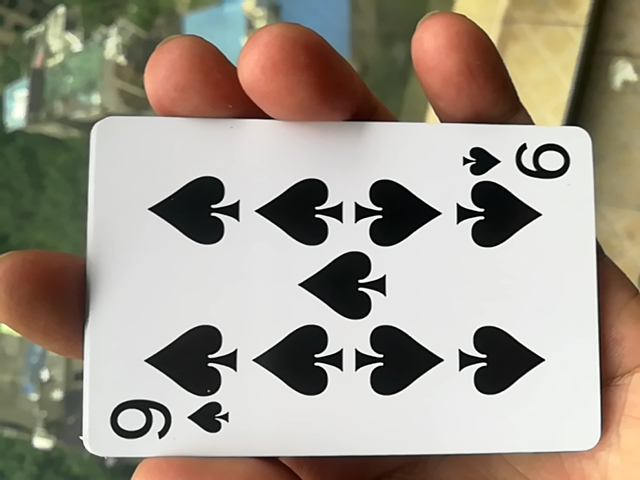ht 9: (60, 125, 602, 468)
